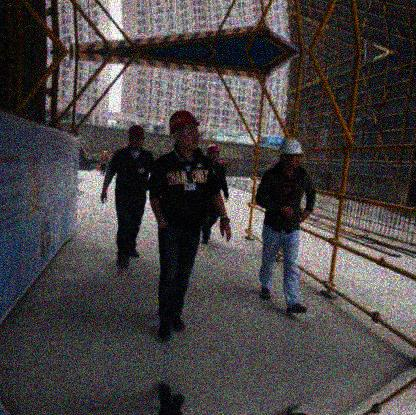helmet: (168, 109, 199, 155), (280, 139, 305, 173), (128, 124, 146, 152), (207, 145, 219, 164)
